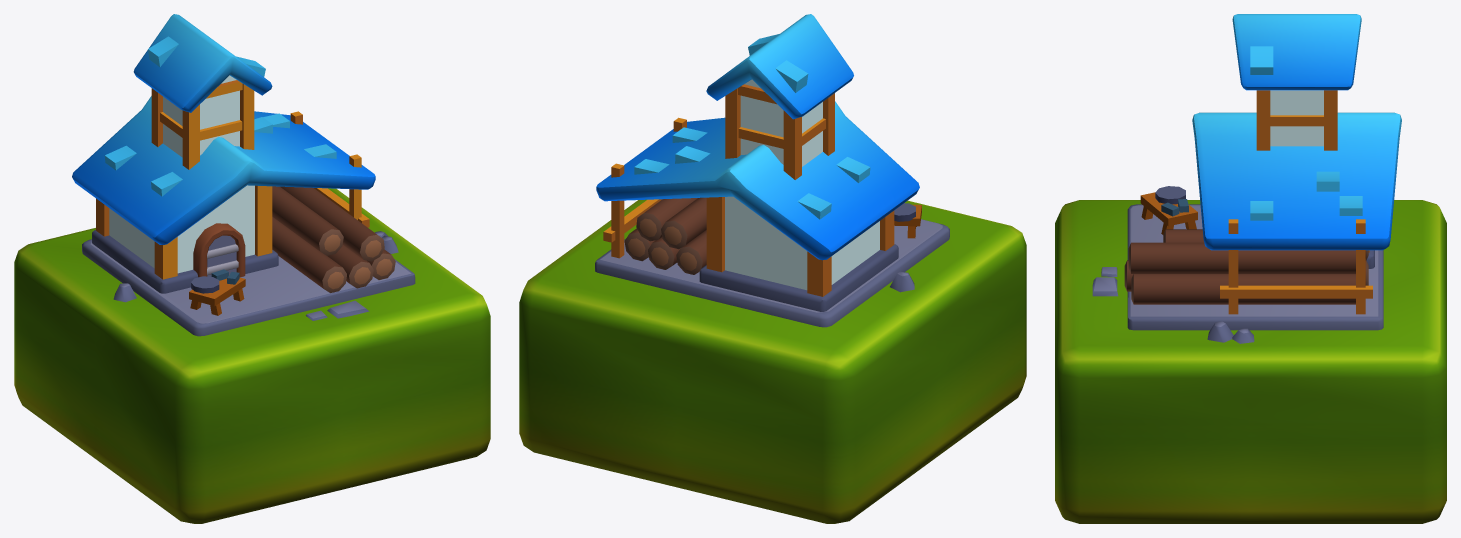
The model's file is block_meta_sawmill.fbx.
3 views of the same model, side by side, from view 1: azimuth 30°, elevation 25°; view 2: azimuth 150°, elevation 25°; view 3: azimuth 270°, elevation 25° (orthographic). The views are drawn at different scales.
Visible parts, largest first — view 1: block_meta_sawmill; view 2: block_meta_sawmill; view 3: block_meta_sawmill.
Boxes of the visible parts, left/top/right/bottom form: block_meta_sawmill: left=14, top=14, right=490, bottom=523; block_meta_sawmill: left=519, top=14, right=1026, bottom=523; block_meta_sawmill: left=1055, top=14, right=1446, bottom=523.
Size of the model in its own units: 400 by 475 by 400.
